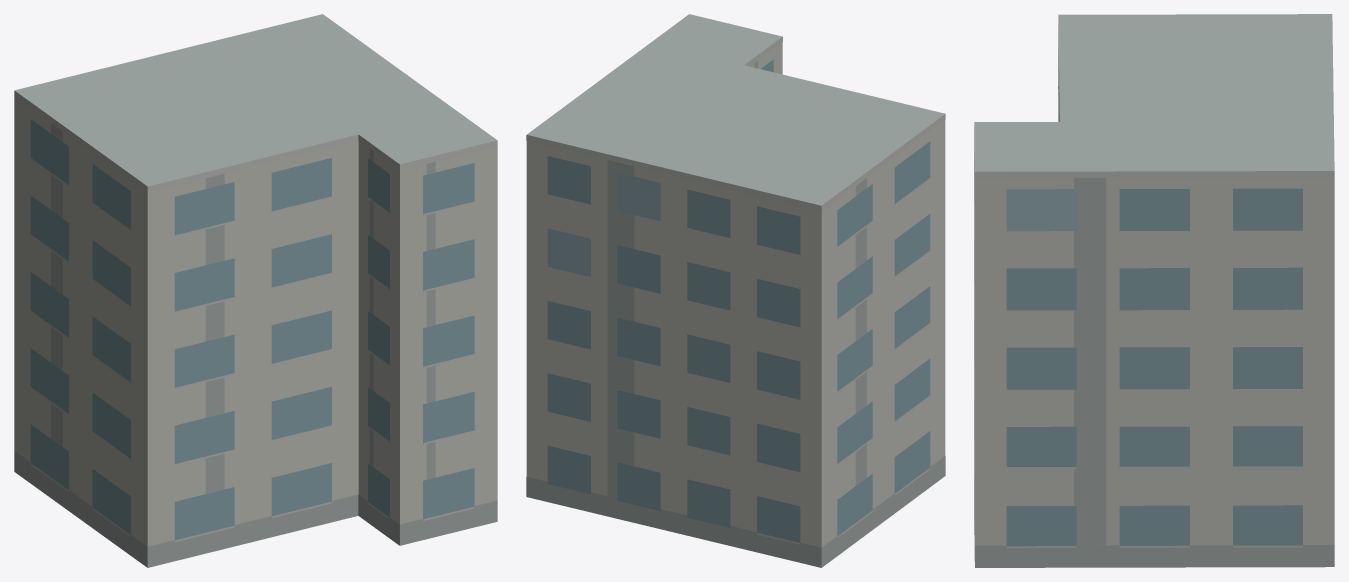
The model's file is residential-32771ff0-3e43-49cf-9a2f-bb8bd99a7780.glb.
3 renders of one model, left to right at view 1: azimuth 30°, elevation 25°; view 2: azimuth 150°, elevation 25°; view 3: azimuth 270°, elevation 25°, orthographic. The views are drawn at different scales.
Visible parts, largest first — view 1: residential-32771ff0-3e43-49cf-9a2f-bb8bd99a7780.tmp; view 2: residential-32771ff0-3e43-49cf-9a2f-bb8bd99a7780.tmp; view 3: residential-32771ff0-3e43-49cf-9a2f-bb8bd99a7780.tmp.
Boxes of the visible parts, box(x1,y1,x2,y2) form: residential-32771ff0-3e43-49cf-9a2f-bb8bd99a7780.tmp: box(14, 14, 497, 567); residential-32771ff0-3e43-49cf-9a2f-bb8bd99a7780.tmp: box(526, 14, 945, 567); residential-32771ff0-3e43-49cf-9a2f-bb8bd99a7780.tmp: box(974, 14, 1334, 567).
Size of the model in its own units: 13.04 by 15.25 by 12.58.
